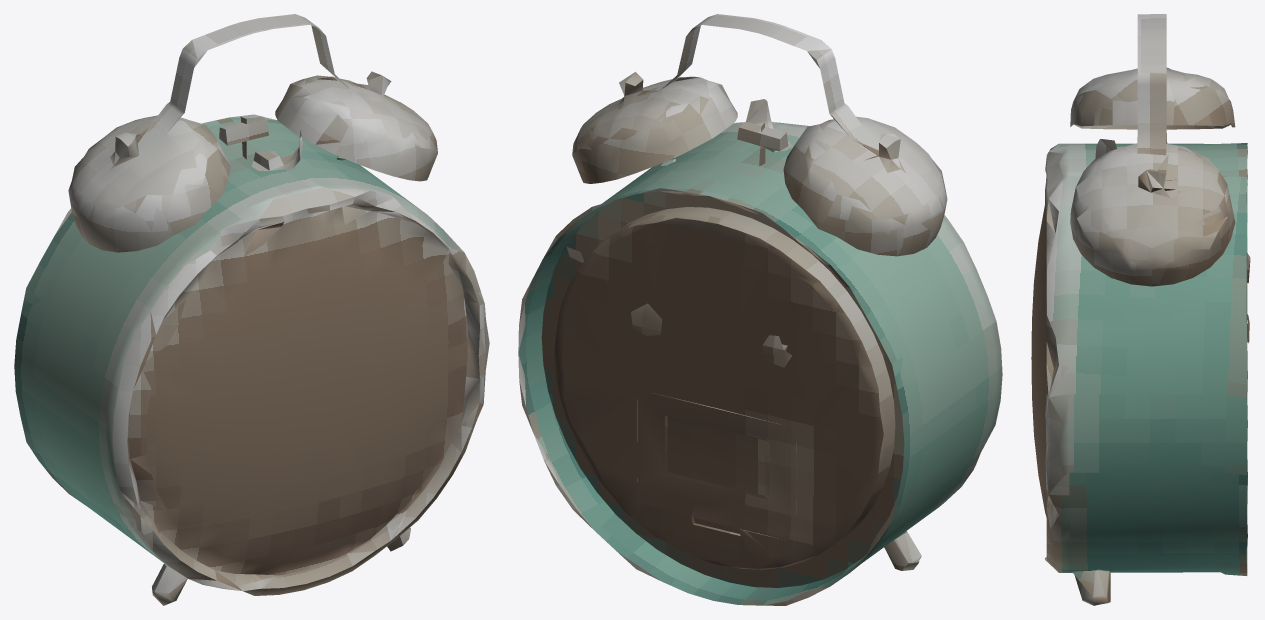
The model's file is clock_alarm.glb.
3 views of the same model, side by side, from view 1: azimuth 30°, elevation 25°; view 2: azimuth 150°, elevation 25°; view 3: azimuth 270°, elevation 25° (orthographic). The views are drawn at different scales.
Visible parts, largest first — view 1: mesh; view 2: mesh; view 3: mesh.
Part boxes in pixels (x1,y1,x2,y2): mesh: [14, 14, 489, 605]; mesh: [518, 14, 1002, 605]; mesh: [1031, 14, 1250, 605].
Bounding box in the file's own units: 0.1306 × 0.1742 × 0.0664.
1 material, 1 textured.
